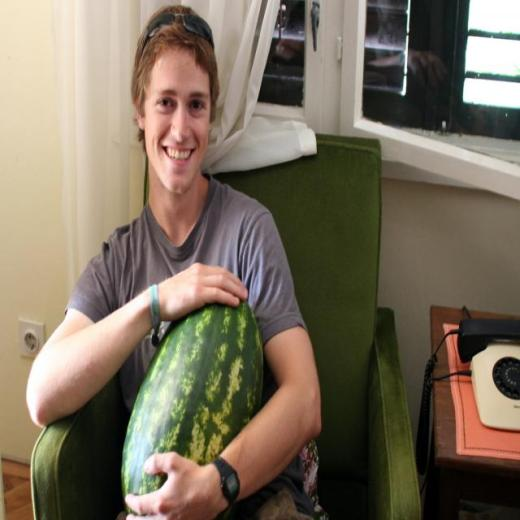Cherry: (120, 302, 258, 519)
